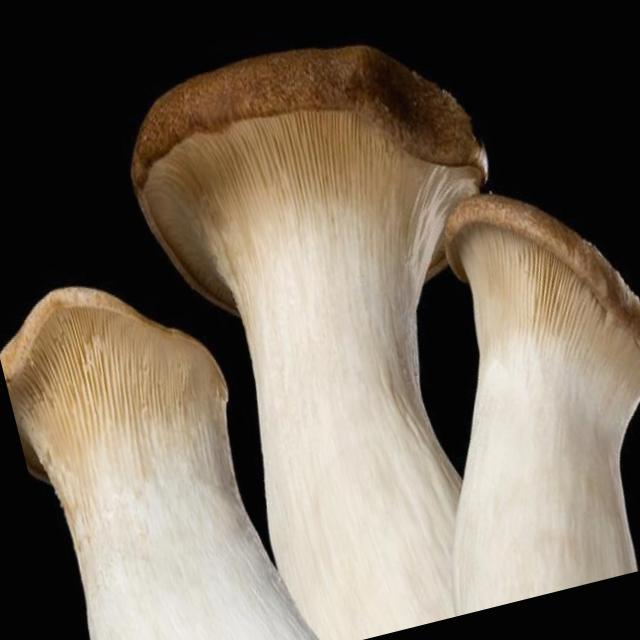Pleurotus eryngii: (111, 5, 590, 640), (361, 163, 640, 615), (0, 247, 320, 640)
